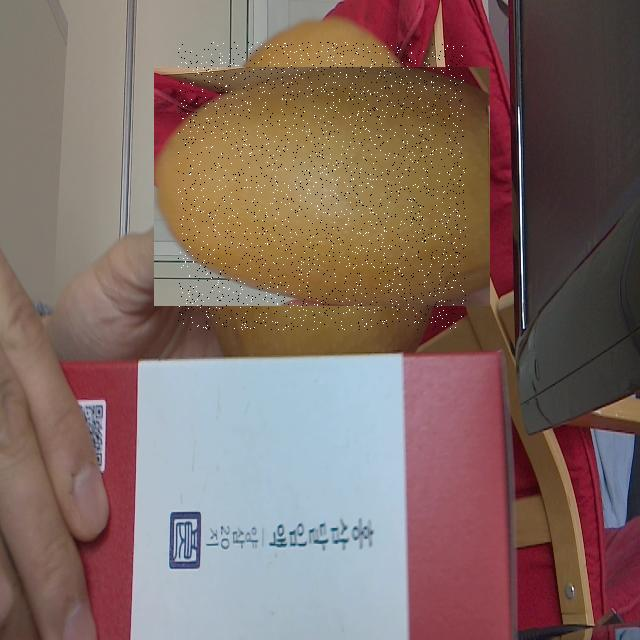pear: (178, 42, 466, 330)
